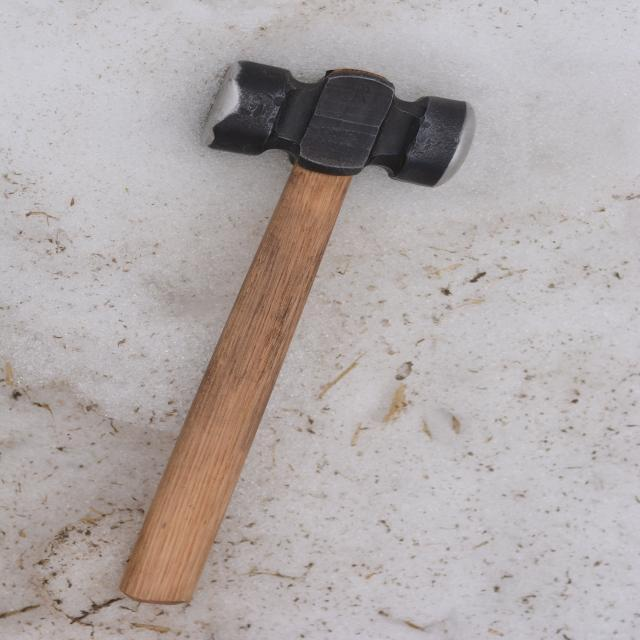hammer: (115, 54, 481, 616)
